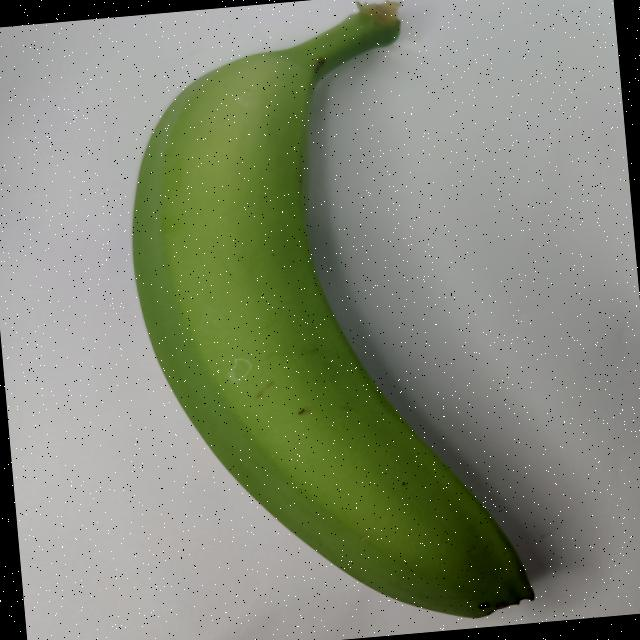Raw: (77, 0, 595, 640)
